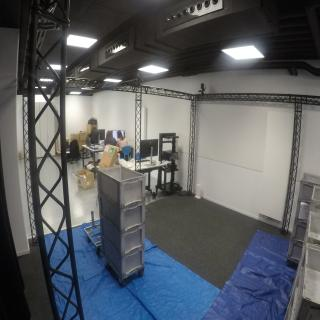Box4G: (98, 192, 149, 236), (100, 235, 148, 281), (99, 215, 148, 258), (98, 166, 148, 208)
